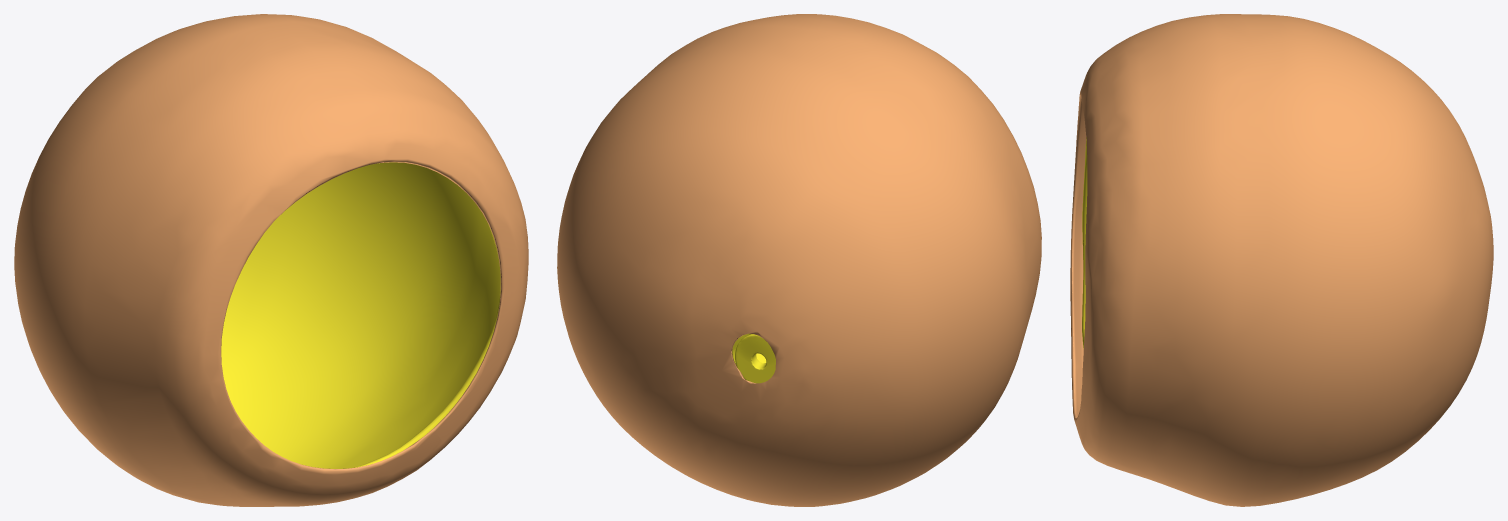
Rendered from retinal-anatomy.glb.
3 renders of one model, left to right at view 1: azimuth 30°, elevation 25°; view 2: azimuth 150°, elevation 25°; view 3: azimuth 270°, elevation 25°, orthographic. The views are drawn at different scales.
Parts seen in each view (by area): view 1: VH_M_optic_choroid_L, VH_M_retina_L; view 2: VH_M_optic_choroid_L, VH_M_optic_disc_L; view 3: VH_M_optic_choroid_L, VH_M_retina_L.
Part boxes in pixels (x1,y1,x2,y2): VH_M_optic_choroid_L: (14, 14, 528, 506); VH_M_retina_L: (221, 162, 500, 468); VH_M_optic_choroid_L: (557, 14, 1041, 506); VH_M_optic_disc_L: (735, 334, 775, 383); VH_M_optic_choroid_L: (1070, 14, 1493, 506); VH_M_retina_L: (1082, 137, 1087, 348).
Size of the model in its own units: 3.1 by 3.09 by 2.65.
